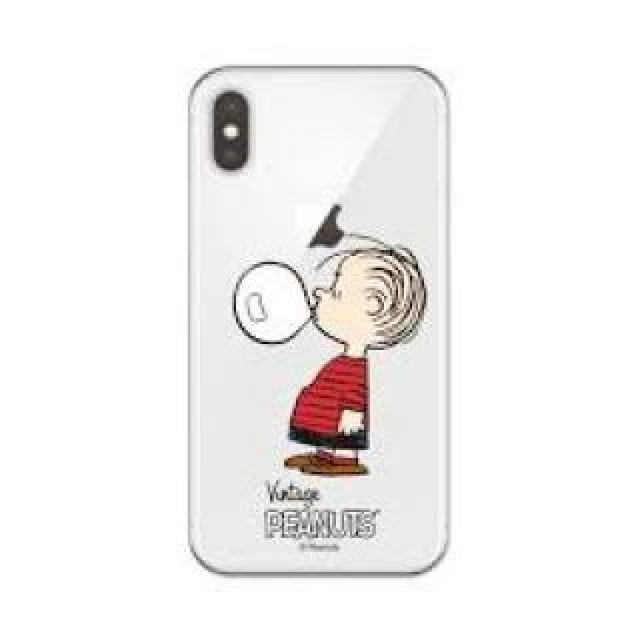smart phone: (172, 15, 470, 617)
